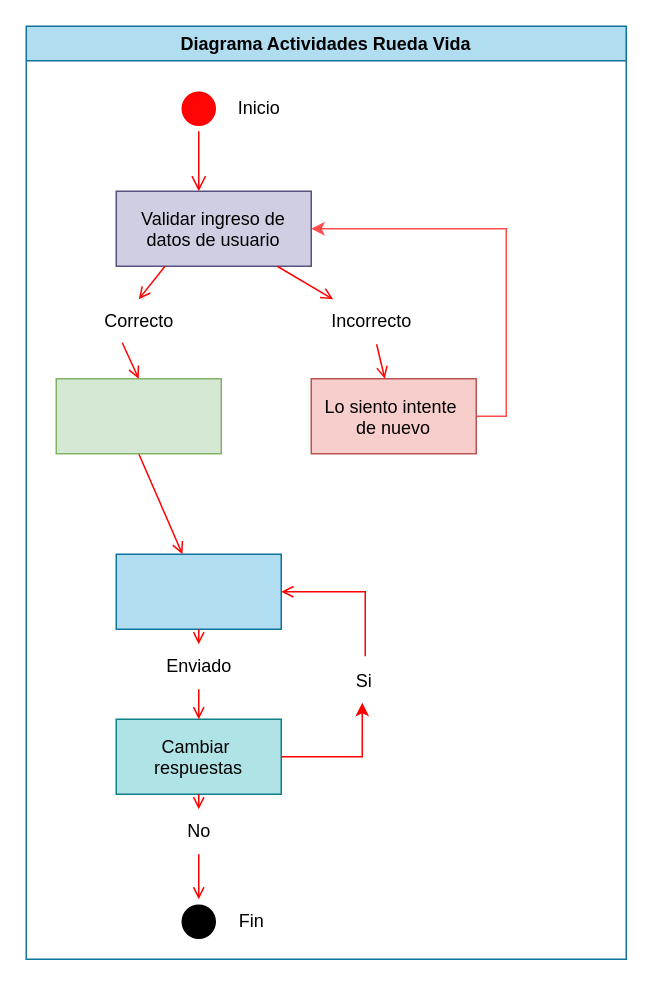
This 653x986 diagram has some shape labels left out. The shapes that lost their labels are listed below. From the top down, each one's box as (x1, y1, x2, y2) in pixels, then its label:
(55, 377, 221, 454): Ya puedes cont- estar la encuesta
(115, 553, 281, 629): Rueda Vida Formulario
